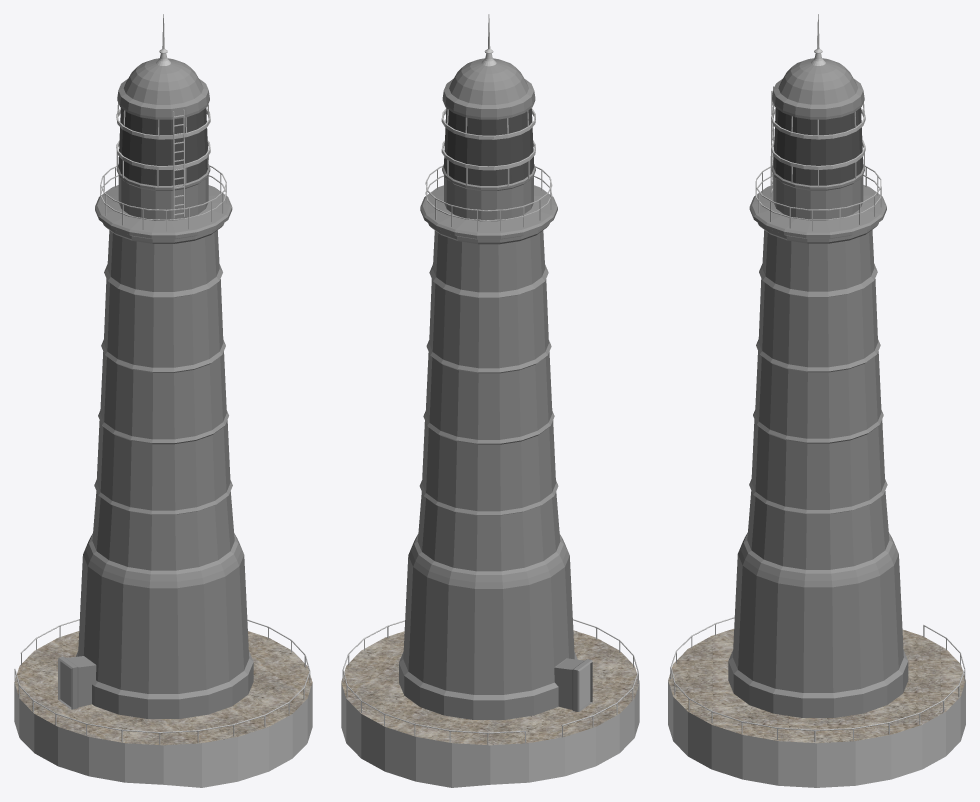
Rendered from leuchtturm.fbx.
3 renders of one model, left to right at view 1: azimuth 30°, elevation 25°; view 2: azimuth 150°, elevation 25°; view 3: azimuth 270°, elevation 25°, orthographic.
Parts seen in each view (by area): view 1: Mesh; view 2: Mesh; view 3: Mesh.
Boxes of the visible parts, <box> form: Mesh: <box>14,14,312,787</box>; Mesh: <box>341,14,639,787</box>; Mesh: <box>668,14,965,787</box>.
Bounding box in the file's own units: 2250 × 5930 × 2250.
